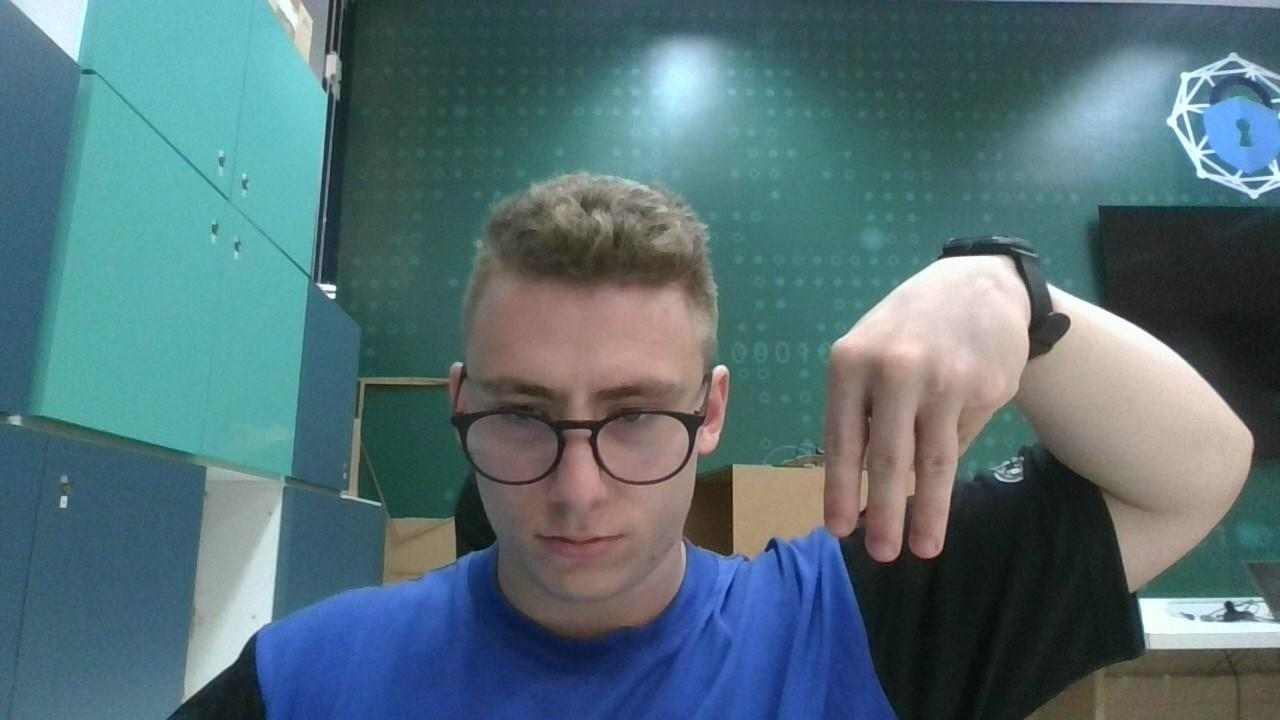M: (818, 252, 1024, 566)
